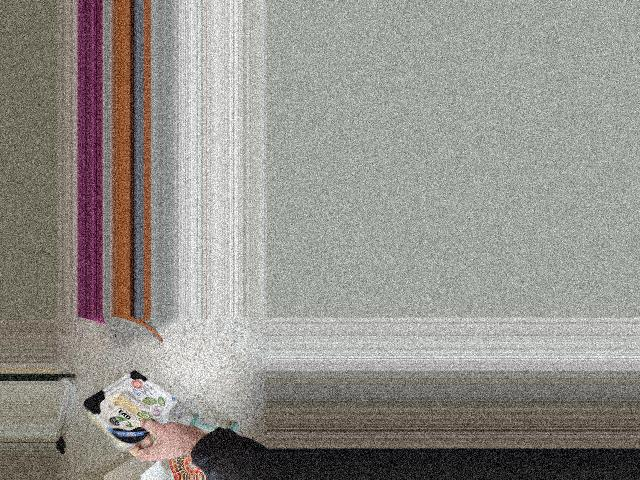cheese: (86, 361, 162, 467)
